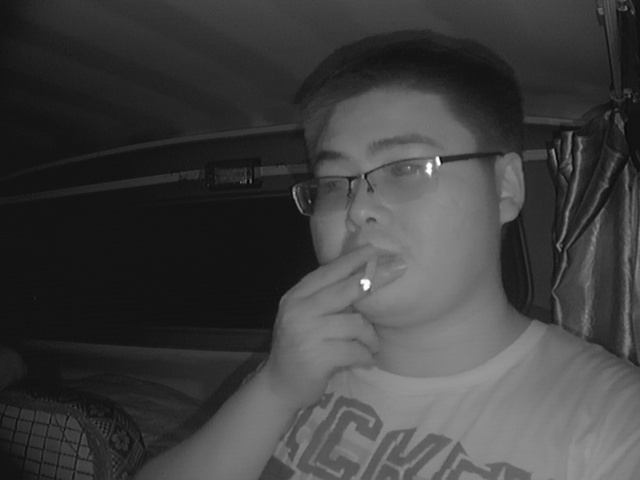hand: (288, 242, 405, 370)
